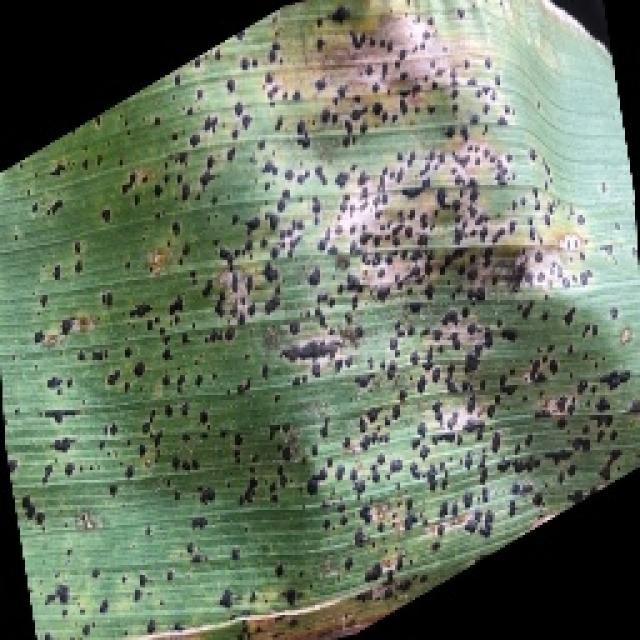Tar_Spot: (139, 62, 599, 494)
